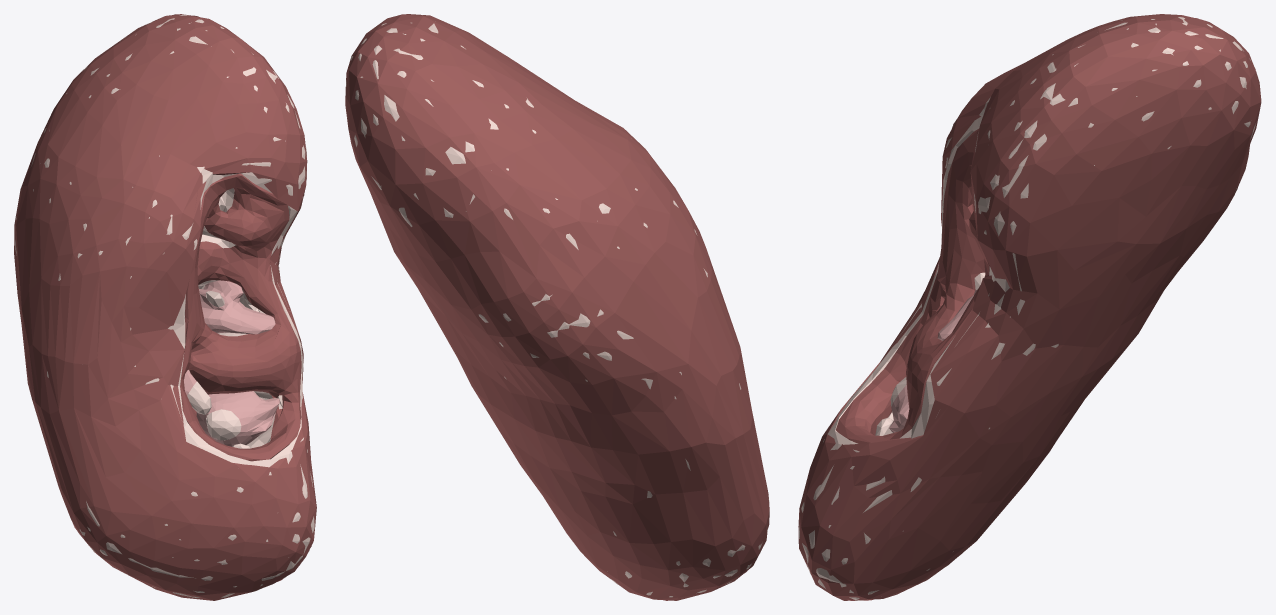
File: VH_M_Kidney_R_0.2.glb
The picture shows the model from 3 angles, left to right: view 1: azimuth 30°, elevation 25°; view 2: azimuth 150°, elevation 25°; view 3: azimuth 270°, elevation 25°; orthographic projection. The views are drawn at different scales.
Parts seen in each view (by area): view 1: VH_M_kidney_capsule_R, VH_M_hilum_of_kidney_R, VH_M_outer_cortex_of_kidney_R, VH_M_renal_pyramid_f, VH_M_renal_pyramid_h, VH_M_renal_column_R, VH_M_renal_papilla_R_h, VH_M_renal_papilla_R_g; view 2: VH_M_kidney_capsule_R, VH_M_outer_cortex_of_kidney_R; view 3: VH_M_kidney_capsule_R, VH_M_hilum_of_kidney_R, VH_M_outer_cortex_of_kidney_R, VH_M_renal_pyramid_h.
Part boxes in pixels (x1,y1,x2,y2): VH_M_kidney_capsule_R: (14, 14, 316, 600); VH_M_hilum_of_kidney_R: (180, 173, 301, 461); VH_M_outer_cortex_of_kidney_R: (15, 14, 316, 597); VH_M_renal_pyramid_f: (199, 280, 275, 334); VH_M_renal_pyramid_h: (196, 391, 280, 446); VH_M_renal_column_R: (198, 188, 275, 448); VH_M_renal_papilla_R_h: (206, 409, 241, 440); VH_M_renal_papilla_R_g: (187, 381, 211, 414); VH_M_kidney_capsule_R: (345, 14, 769, 600); VH_M_outer_cortex_of_kidney_R: (346, 15, 769, 597); VH_M_kidney_capsule_R: (798, 14, 1261, 600); VH_M_hilum_of_kidney_R: (836, 129, 989, 443); VH_M_outer_cortex_of_kidney_R: (799, 17, 1255, 600); VH_M_renal_pyramid_h: (889, 385, 909, 432).
Size of the model in its own units: 0.0657 by 0.1126 by 0.0764.
